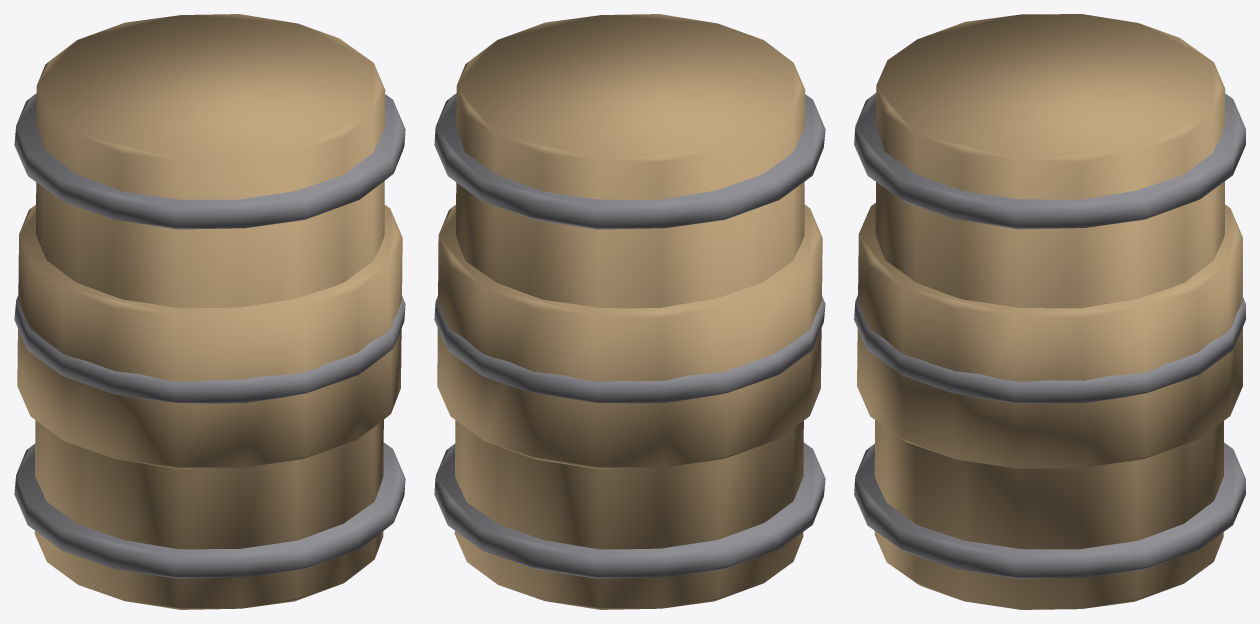
File: prop_barrel.glb
3 renders of one model, left to right at view 1: azimuth 30°, elevation 25°; view 2: azimuth 150°, elevation 25°; view 3: azimuth 270°, elevation 25°, orthographic.
Visible parts, largest first — view 1: prop_barrel; view 2: prop_barrel; view 3: prop_barrel.
Part boxes in pixels (x1=…): prop_barrel: x1=14, y1=14, x2=405, y2=609; prop_barrel: x1=434, y1=14, x2=825, y2=609; prop_barrel: x1=854, y1=14, x2=1245, y2=609.
Bounding box in the file's own units: 0.6581 × 0.86 × 0.67.
